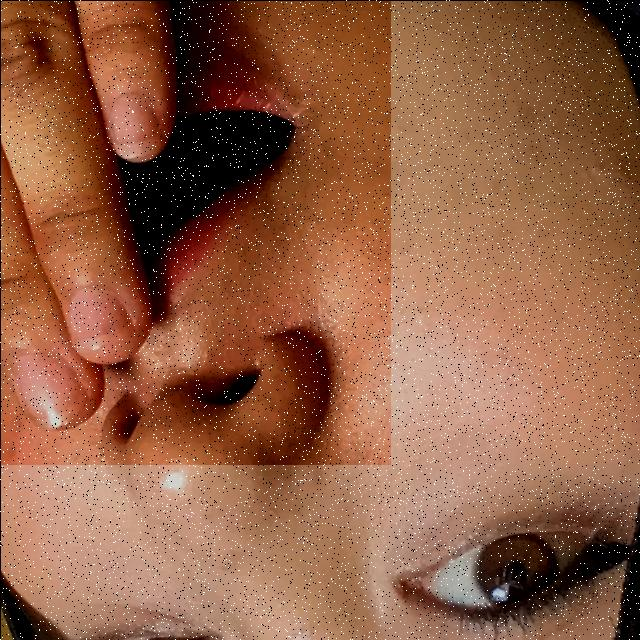ngantuk: (0, 0, 390, 464)
